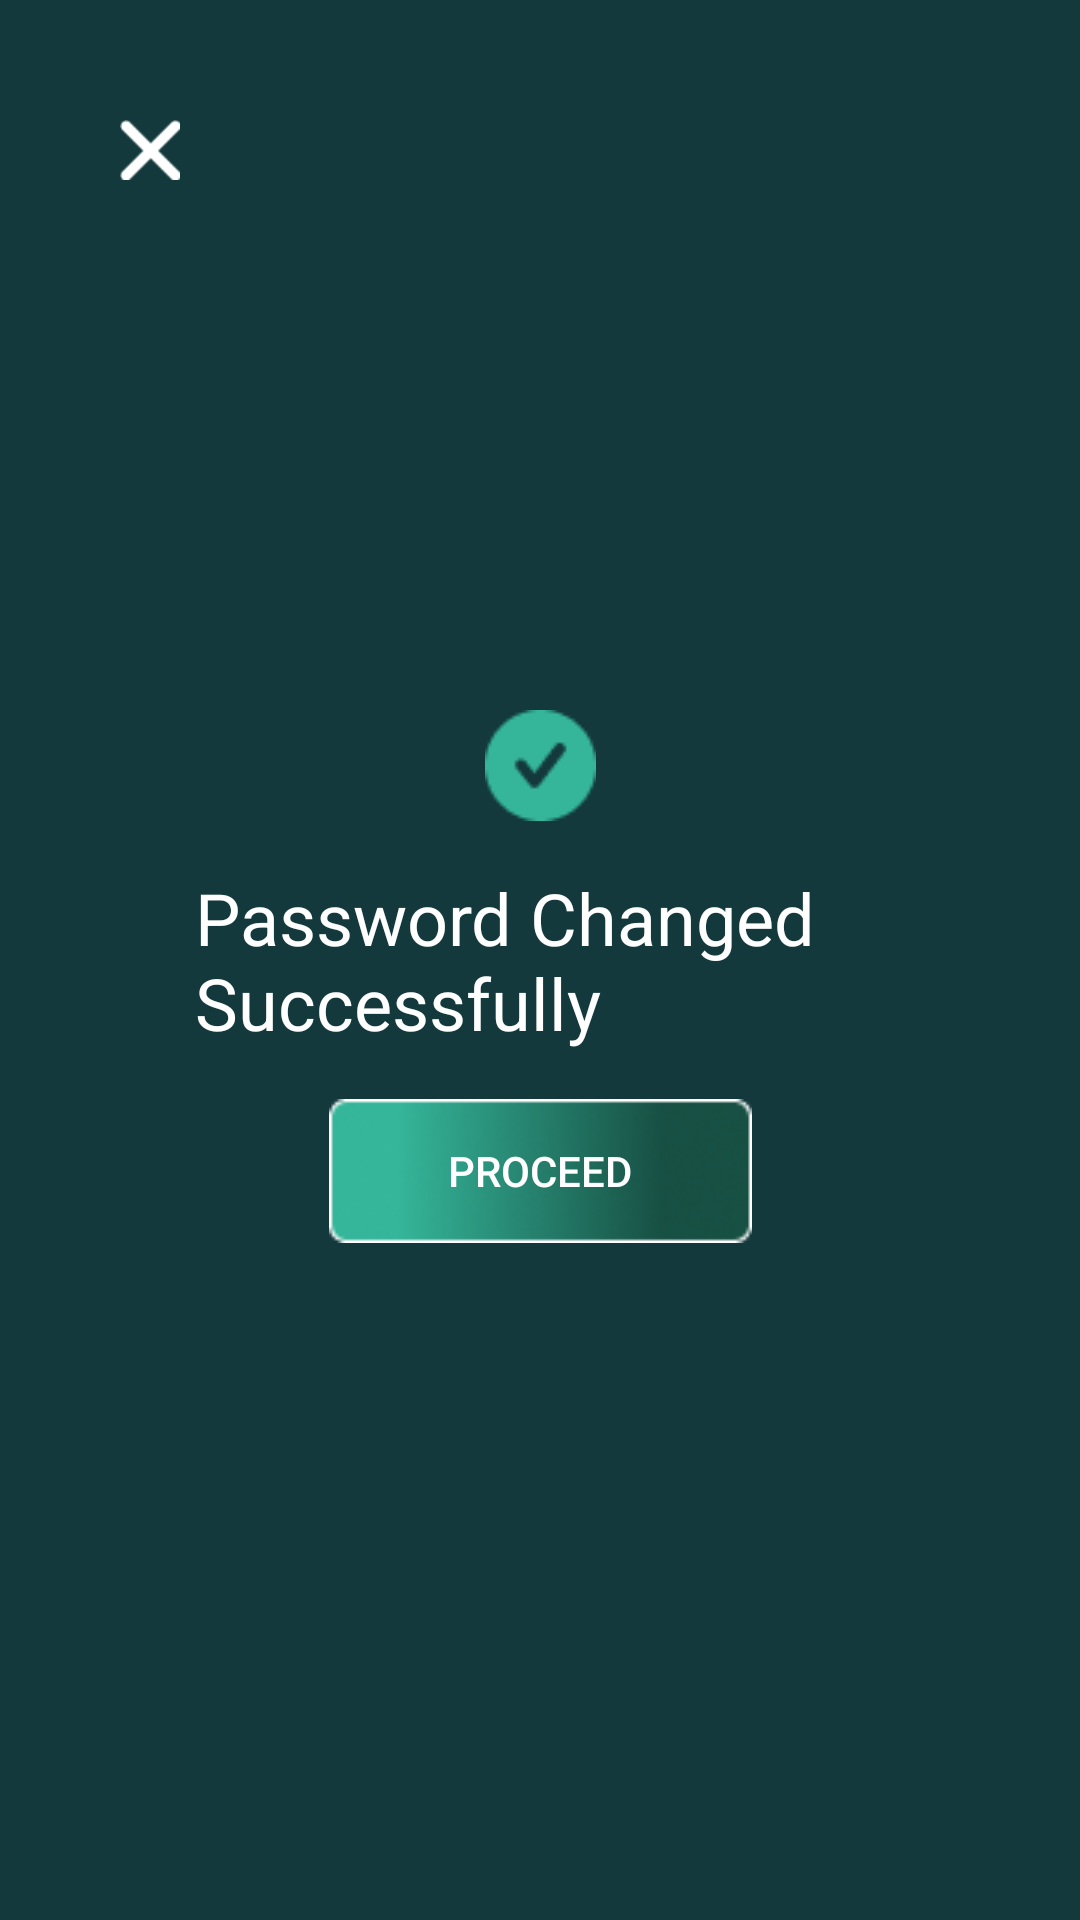

Named icons in this screenshot (1080x1920) and their centers, (x,y):
passwordchanged tick: (540,765)
upscaledcross: (150,150)
